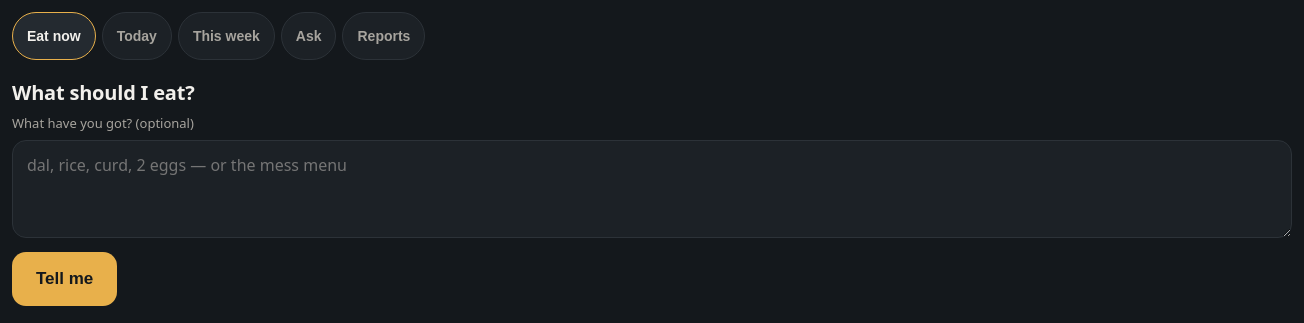
Scenario: Coach › a week with too little in it says so instead of inventing a review
What coordinates should you click on to do the following:
click the button "This week"
I would click on:
 (226, 36)
Its box is [178, 12, 275, 60].
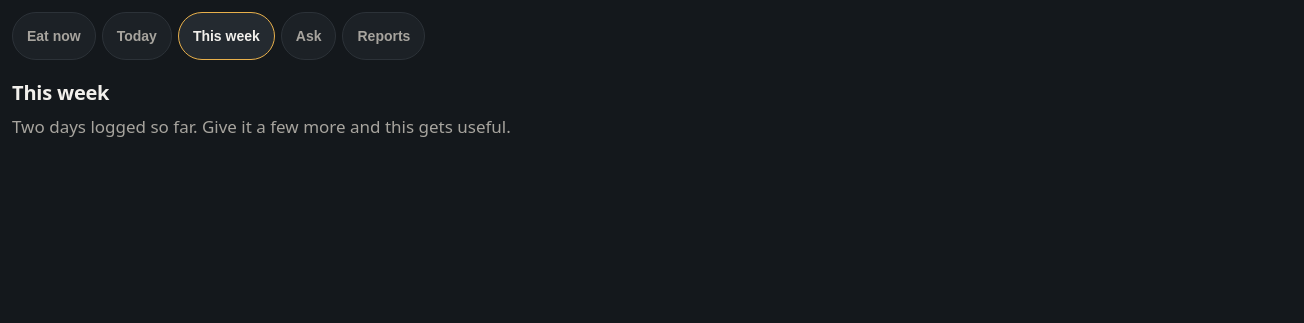
Expected: the text "Give it a few more" is shown, [12, 115, 511, 138]
